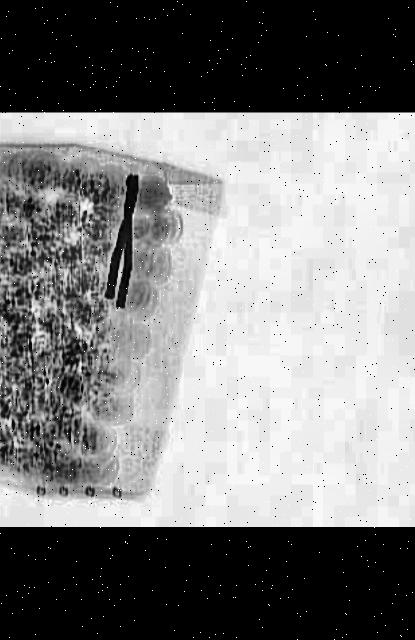Pliers: (103, 176, 152, 311)
